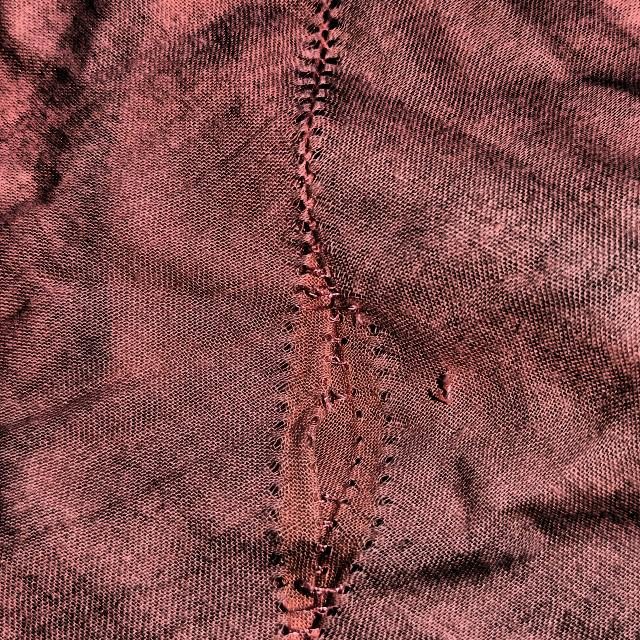seam: (200, 222, 470, 638)
